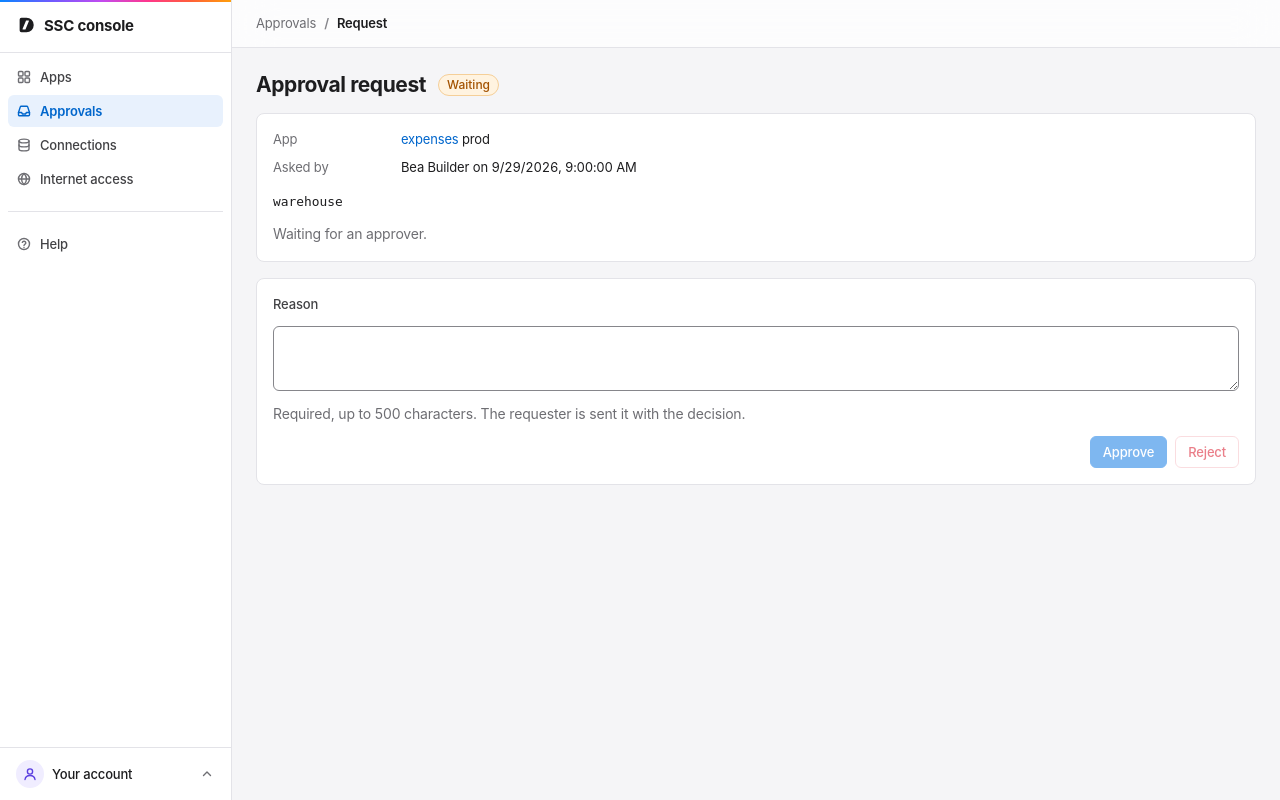
it: approval detail › says when an approval was not applied
This screenshot has width=1280, height=800.
In the text box labelled "Reason": (756, 359) [273,326,1239,391], type "ok"
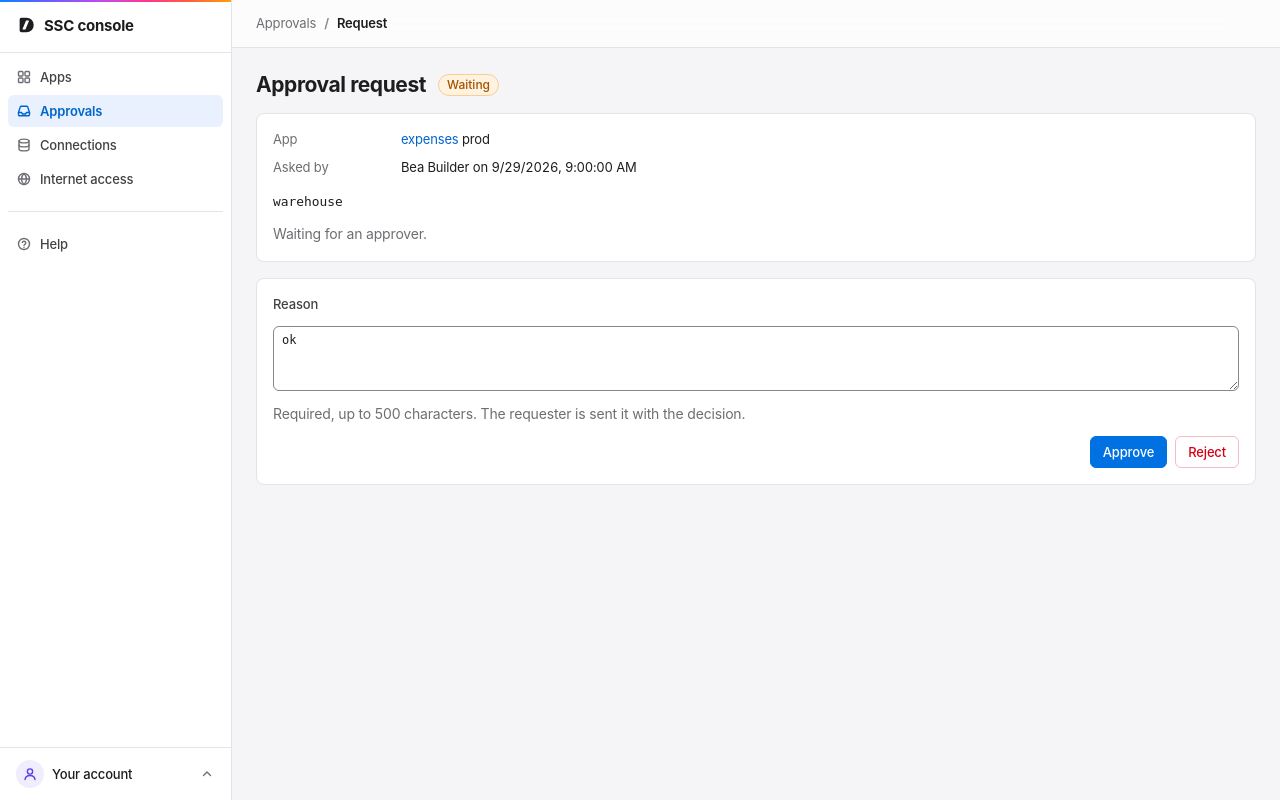
Click the button "Approve": (1129, 452) [1090,436,1167,468]
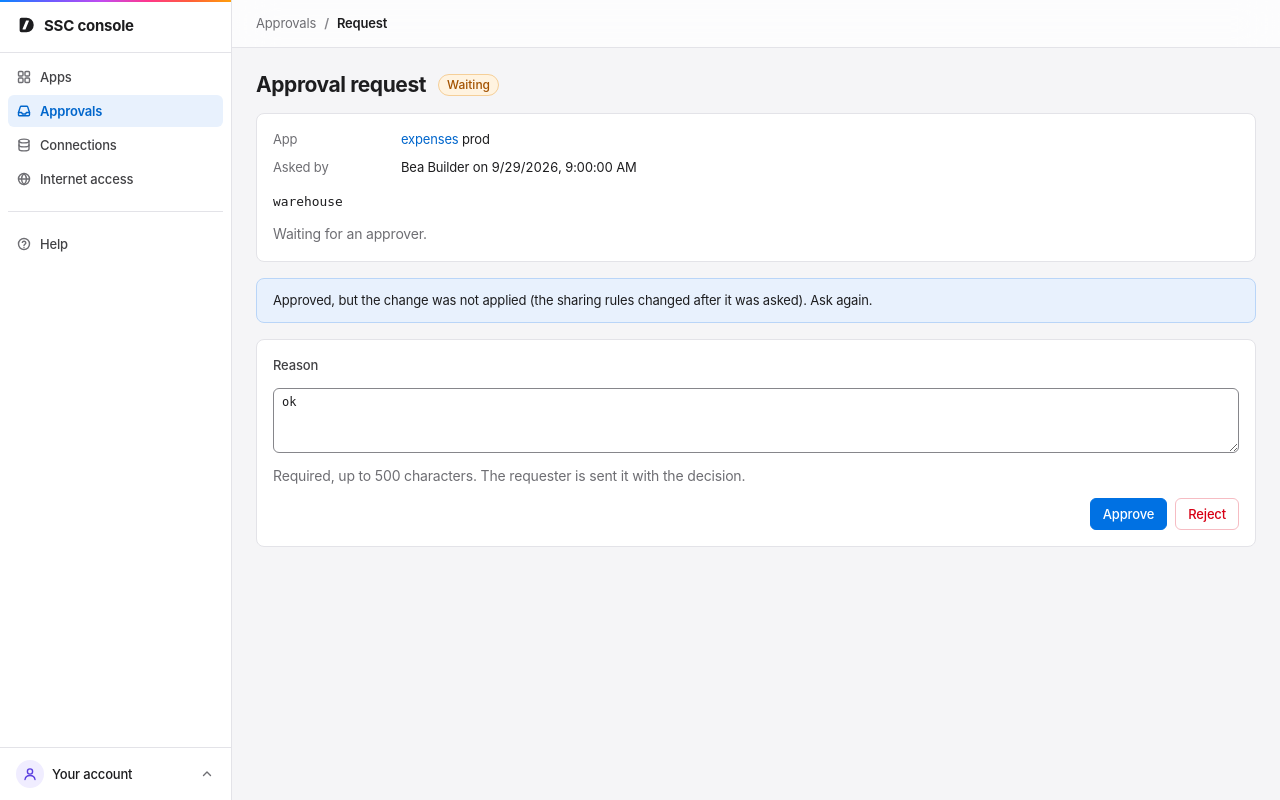
Check: the text "Approved, but the change was not applied (the sharing rules changed after it was asked). Ask again." is shown, box [273,292,872,308]
